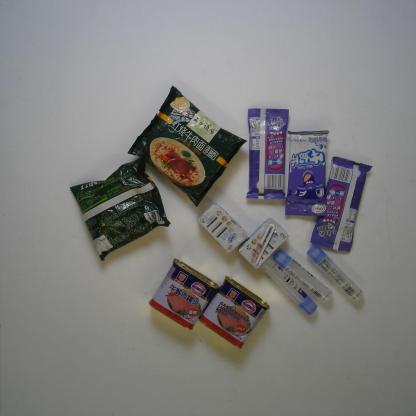Candy: (310, 155, 373, 253), (245, 106, 290, 201), (284, 128, 330, 218)
Canned Food: (197, 275, 270, 350), (148, 258, 220, 332)
Instant Noodles: (126, 84, 250, 209), (68, 157, 171, 262)
Milk: (236, 216, 290, 271), (197, 202, 250, 255)
Stationery: (306, 242, 365, 303), (260, 256, 319, 317), (272, 248, 334, 305)
